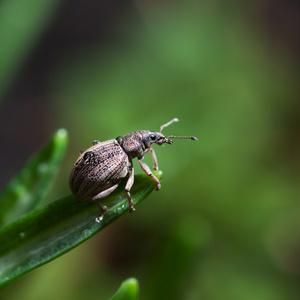Curculionidae: (68, 117, 200, 228)
